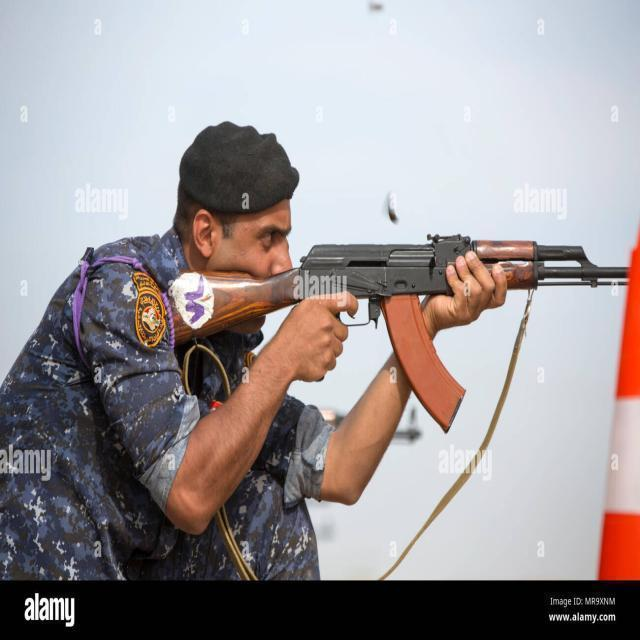Rifle: (162, 228, 632, 434)
